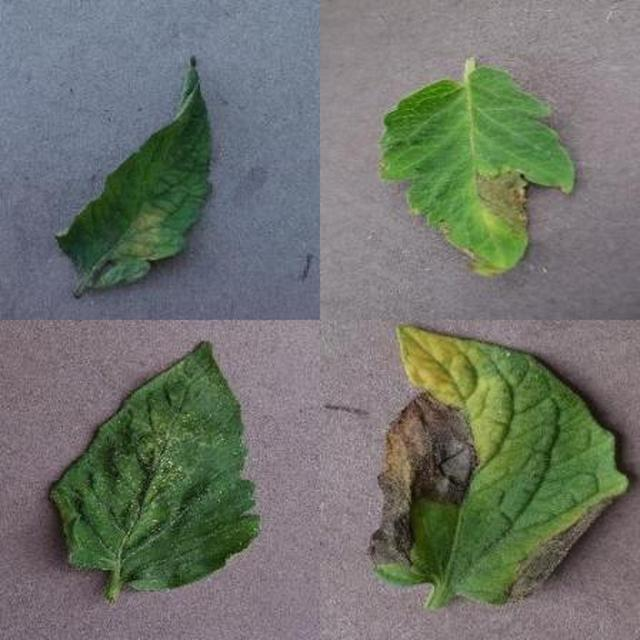Leaf Mold: (193, 245, 640, 640)
